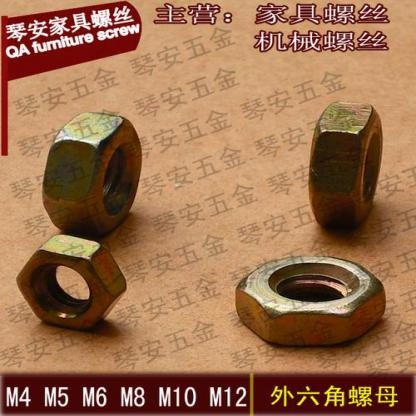FOD: (233, 254, 389, 349), (40, 107, 144, 241), (12, 233, 130, 332), (306, 97, 385, 231)
